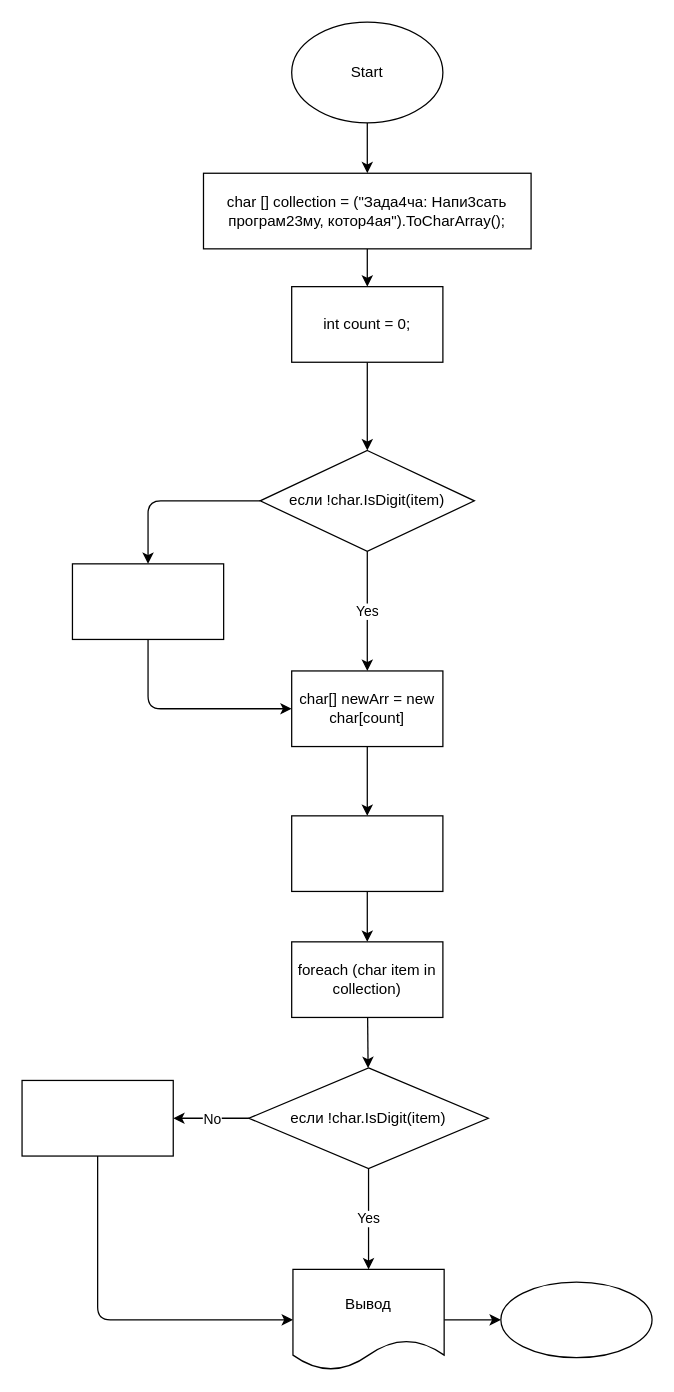
The diagram is 674 pixels wide and 1392 high, and some of its shapes have lost their labels. The shapes that lost their labels are listed below. From the top down, each one's centre as x and y in pixels, then its label:
At (147,601): "count++".
At (366,853): "char[] newArr = new char[count] count = 0".
At (97,1117): "newArr[count]=item; count++".
At (576,1319): "Finish".
